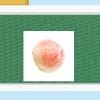half-ripe: (31, 37, 66, 74)
